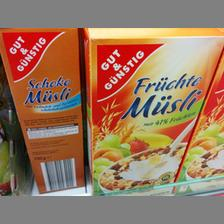Cerealien: (83, 26, 221, 194)
